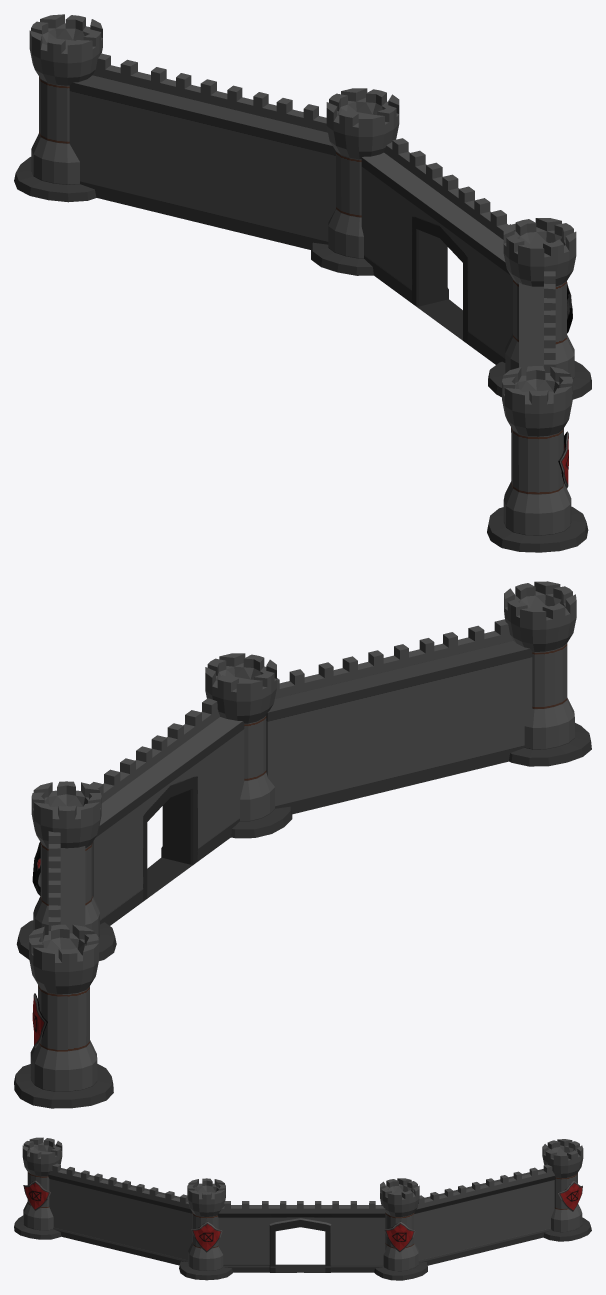
The model's file is wall.dae.
The picture shows the model from 3 angles, top to bottom: view 1: azimuth 30°, elevation 25°; view 2: azimuth 150°, elevation 25°; view 3: azimuth 270°, elevation 25°; orthographic projection. The views are drawn at different scales.
Visible parts, largest first — view 1: Cube.003, Cube.002, Cube.007, Cube.006, Cube.005, Cube, Cube.004; view 2: Cube.004, Cube.002, Cube.006, Cube.007, Cube, Cube.005, Cube.003; view 3: Cube.004, Cube.003, Cube.002, Cube.005, Cube, Cube.006, Cube.007, Plane.001, Plane, Plane.003, Plane.002.
Part boxes in pixels (bbox=[...]): Cube.003: bbox=[69, 53, 335, 249]; Cube.002: bbox=[361, 138, 515, 364]; Cube.007: bbox=[487, 366, 588, 552]; Cube.006: bbox=[14, 14, 102, 202]; Cube.005: bbox=[311, 88, 399, 275]; Cube: bbox=[488, 218, 591, 399]; Cube.004: bbox=[519, 271, 555, 375]; Cube.004: bbox=[266, 619, 532, 814]; Cube.002: bbox=[90, 698, 244, 925]; Cube.006: bbox=[14, 924, 113, 1108]; Cube.007: bbox=[504, 581, 591, 766]; Cube: bbox=[205, 653, 292, 838]; Cube.005: bbox=[16, 781, 116, 960]; Cube.003: bbox=[48, 831, 85, 934]; Cube.004: bbox=[48, 1163, 192, 1265]; Cube.003: bbox=[414, 1164, 555, 1265]; Cube.002: bbox=[217, 1201, 385, 1272]; Cube.005: bbox=[374, 1178, 427, 1280]; Cube: bbox=[179, 1178, 232, 1280]; Cube.006: bbox=[542, 1139, 591, 1241]; Cube.007: bbox=[14, 1137, 62, 1239]; Plane.001: bbox=[384, 1222, 415, 1252]; Plane: bbox=[191, 1222, 222, 1252]; Plane.003: bbox=[23, 1180, 50, 1210]; Plane.002: bbox=[558, 1181, 582, 1211].
Size of the model in its own units: 24.21 by 91.39 by 14.31.
9 materials, 9 textured.
